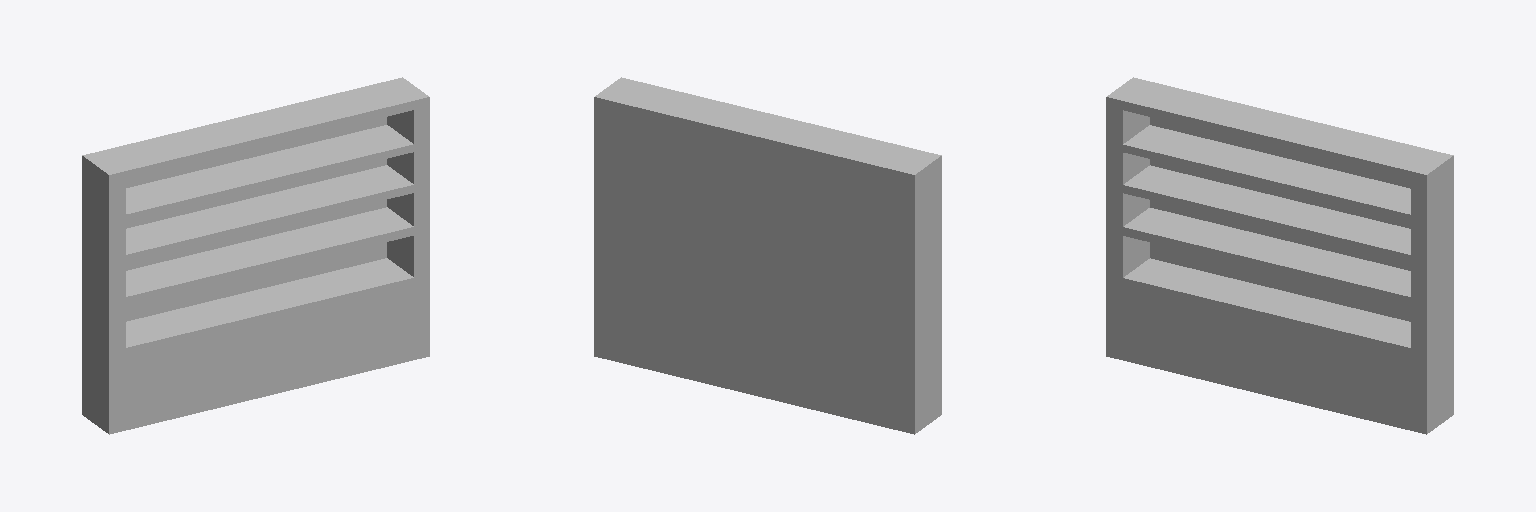
Rendered from shelf.obj.
3 renders of one model, left to right at view 1: azimuth 30°, elevation 25°; view 2: azimuth 150°, elevation 25°; view 3: azimuth 330°, elevation 25°, orthographic.
Visible parts, largest first — view 1: shelf; view 2: shelf; view 3: shelf.
Part boxes in pixels (x1,y1,x2,y2): shelf: (82,77,429,434); shelf: (594,77,941,434); shelf: (1106,77,1453,434).
Size of the model in its own units: 4 by 3.1 by 0.581.